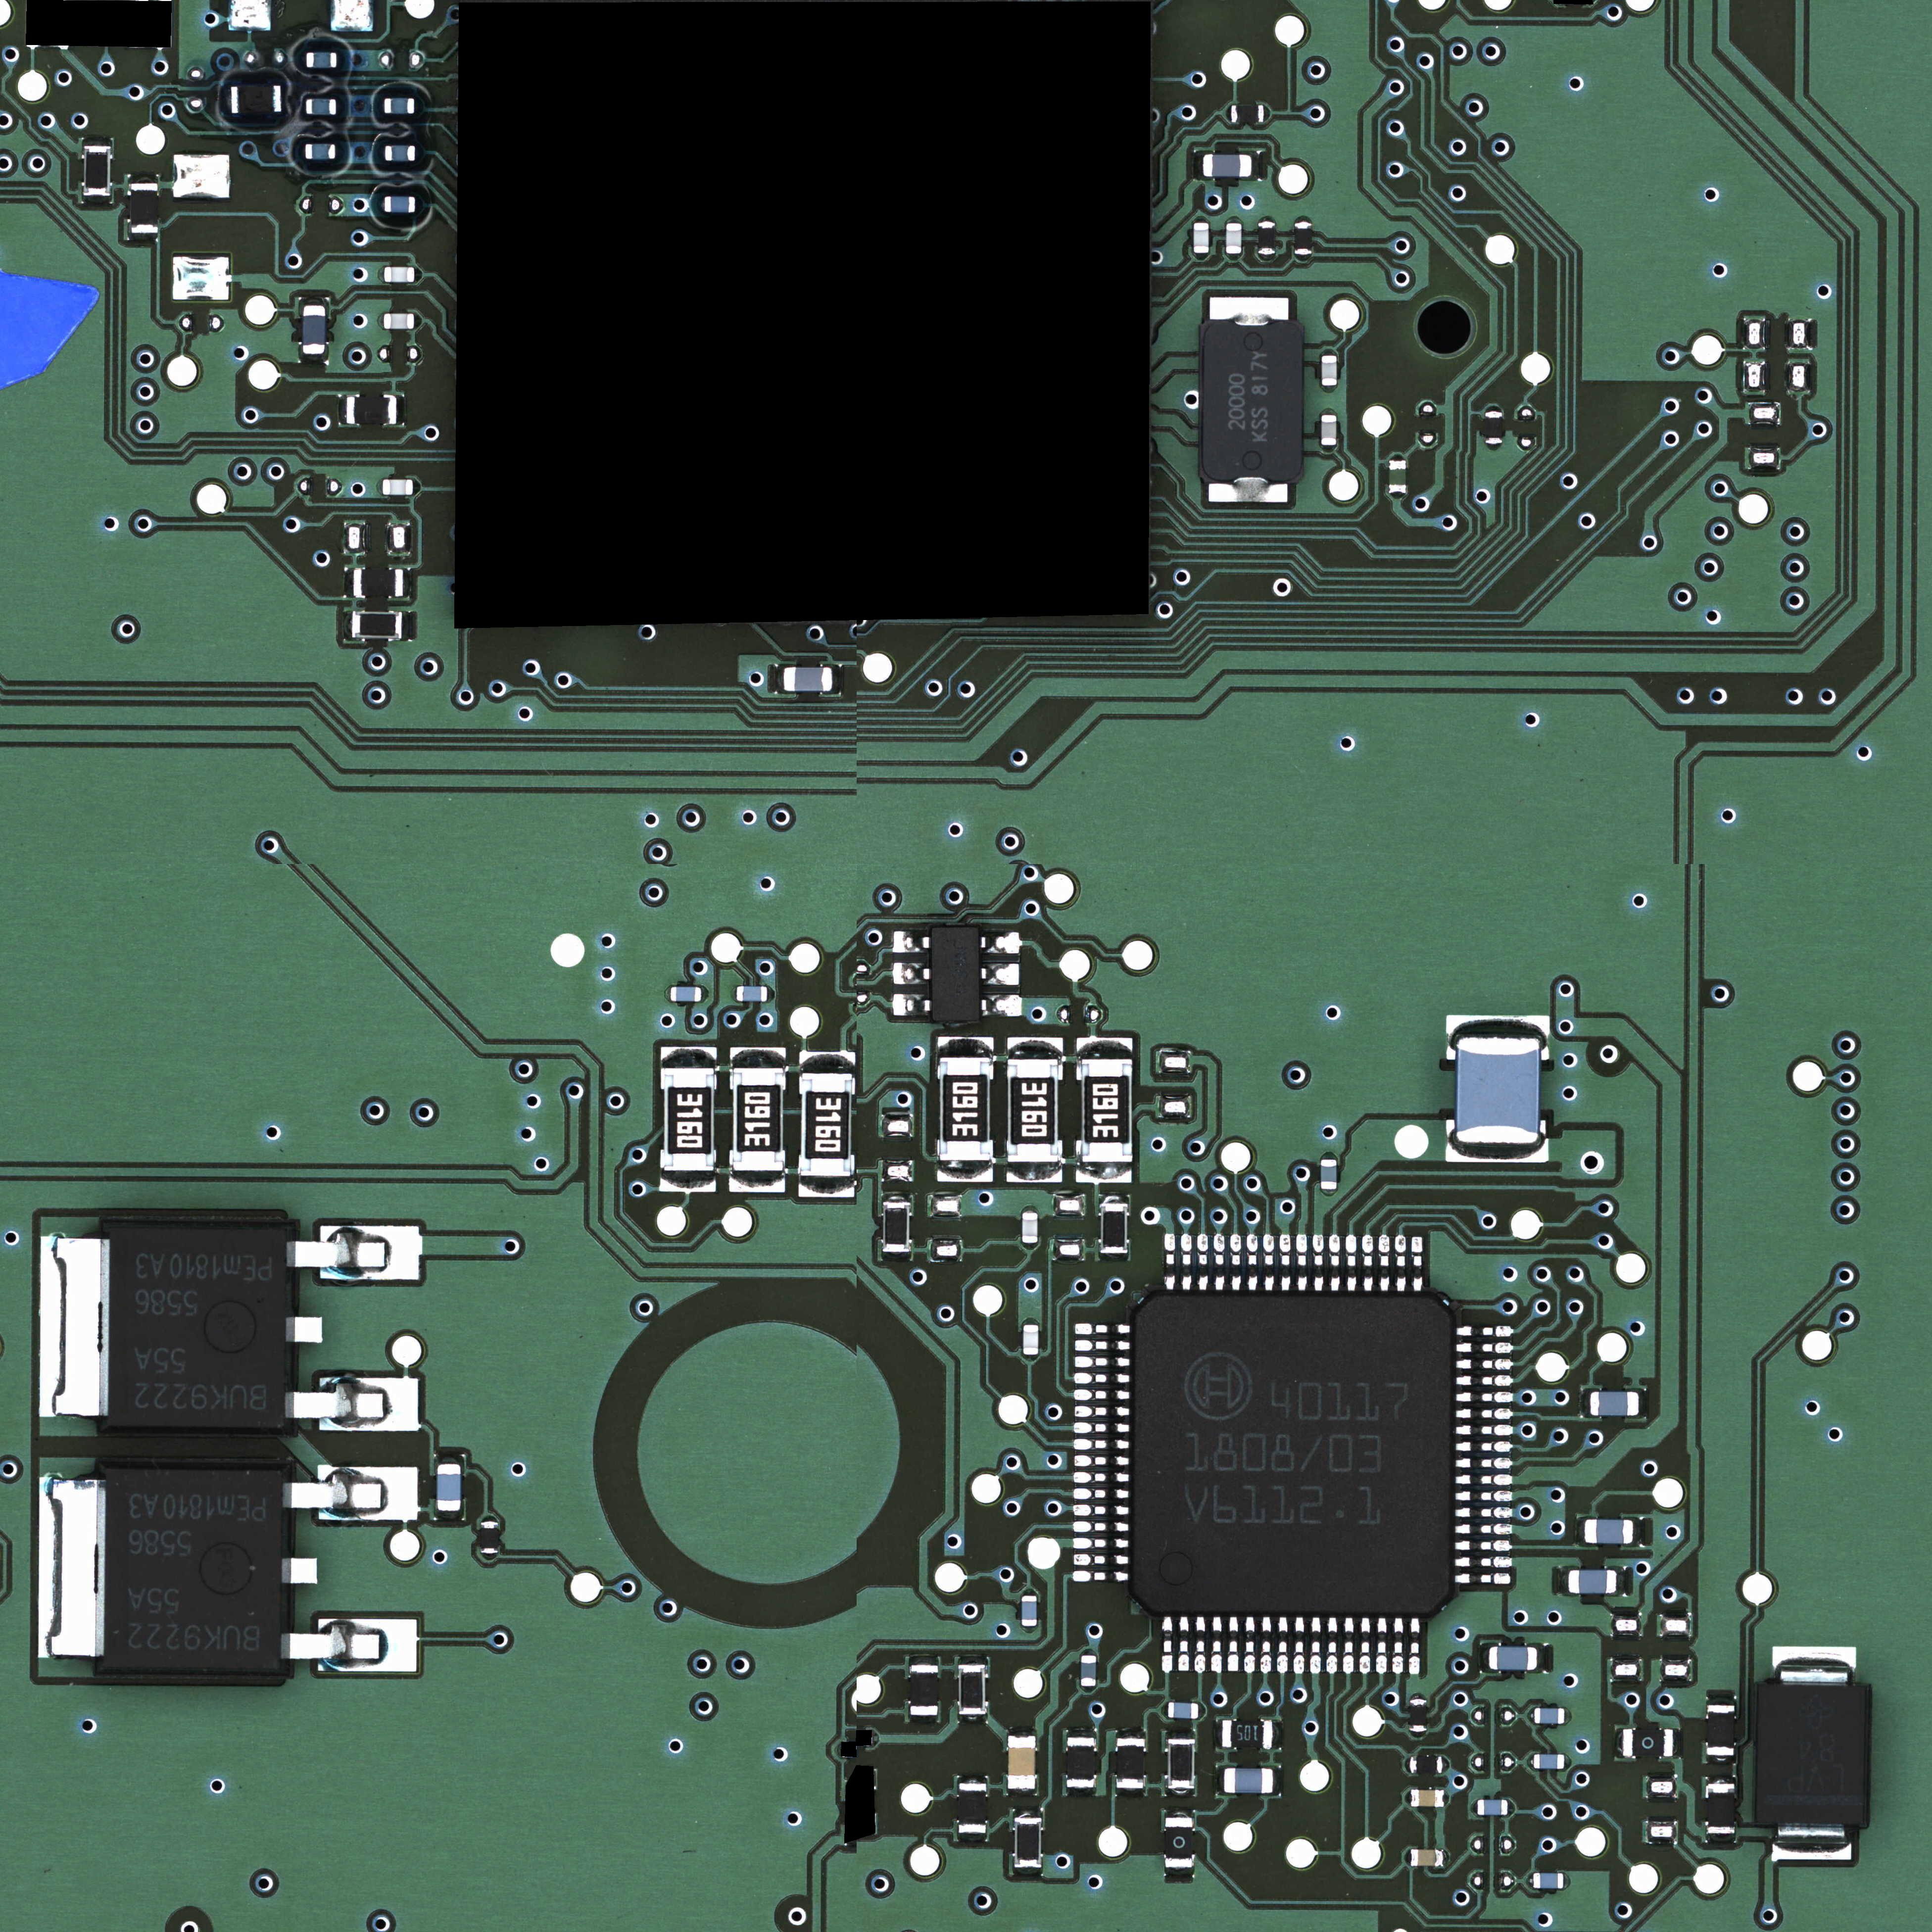Package: (1133, 1294, 1449, 1615), (112, 1221, 287, 1426), (105, 1468, 281, 1672), (1201, 323, 1302, 480), (1757, 1686, 1864, 1824), (1456, 1037, 1541, 1144), (801, 1073, 853, 1176), (661, 1068, 714, 1170), (731, 1068, 784, 1170), (1080, 1059, 1131, 1162), (1009, 1059, 1060, 1162), (939, 1058, 990, 1159), (931, 925, 981, 1020), (231, 84, 282, 114), (130, 183, 158, 233), (346, 395, 395, 425), (1008, 1737, 1035, 1788), (1165, 1817, 1193, 1868), (1116, 1738, 1145, 1787), (1222, 1720, 1272, 1748), (1067, 1737, 1095, 1787), (354, 569, 403, 597), (958, 1783, 986, 1832), (1707, 1705, 1735, 1754), (910, 1665, 938, 1714), (1707, 1784, 1735, 1833), (1622, 1729, 1672, 1756), (1014, 1817, 1041, 1867), (84, 145, 109, 195), (883, 1202, 909, 1252), (1168, 1739, 1194, 1788), (960, 1664, 985, 1714), (1101, 1204, 1127, 1253), (353, 612, 402, 638), (1584, 1519, 1633, 1544), (1224, 1768, 1272, 1792), (783, 667, 831, 691), (1489, 1645, 1537, 1670), (1568, 1569, 1616, 1593), (1590, 1392, 1638, 1415), (1203, 153, 1251, 177), (437, 1464, 461, 1511), (302, 305, 325, 354), (1409, 1698, 1427, 1732), (480, 1521, 498, 1553), (1410, 1788, 1443, 1807), (1485, 411, 1502, 444), (1388, 460, 1406, 492), (1294, 222, 1311, 255), (1231, 105, 1263, 123), (384, 195, 416, 213), (1258, 222, 1275, 254), (1410, 1849, 1443, 1866), (1409, 1756, 1442, 1772), (385, 145, 416, 161), (1167, 1702, 1198, 1718), (306, 98, 337, 115), (385, 97, 415, 114), (1080, 1655, 1096, 1686), (384, 312, 414, 329), (306, 143, 336, 159), (1321, 414, 1336, 445), (1534, 1707, 1564, 1723), (1226, 223, 1242, 253), (385, 266, 414, 283), (1534, 1872, 1563, 1888), (1321, 355, 1337, 386), (736, 986, 767, 1001), (1194, 223, 1209, 253), (1320, 1159, 1336, 1189), (1021, 1595, 1036, 1626), (1478, 1799, 1507, 1815), (306, 52, 337, 67), (383, 479, 412, 494), (671, 986, 701, 1001), (1534, 1754, 1564, 1768), (1022, 1212, 1037, 1243), (1023, 1324, 1037, 1354)
Solder: (41, 1236, 109, 1420), (39, 1477, 104, 1661), (283, 1465, 418, 1523), (288, 1223, 421, 1280), (283, 1616, 418, 1672), (288, 1375, 418, 1431), (1773, 1646, 1856, 1687), (1772, 1824, 1851, 1861), (1447, 1015, 1549, 1037), (1209, 296, 1288, 323), (1446, 1145, 1548, 1163), (1208, 481, 1287, 502), (799, 1051, 855, 1072), (729, 1171, 785, 1193), (798, 1177, 856, 1197), (937, 1161, 993, 1182), (659, 1172, 717, 1192), (660, 1047, 718, 1067), (937, 1037, 994, 1057), (1006, 1163, 1063, 1183), (1076, 1037, 1132, 1057), (1076, 1163, 1132, 1183), (730, 1047, 786, 1067), (1007, 1038, 1063, 1058), (288, 1314, 323, 1344), (980, 931, 1020, 954), (283, 1557, 317, 1583), (981, 995, 1022, 1016), (893, 962, 930, 984), (980, 964, 1019, 985), (1071, 1504, 1129, 1519), (893, 994, 931, 1015), (1454, 1472, 1514, 1486), (1072, 1453, 1130, 1467), (893, 932, 930, 953), (1071, 1553, 1129, 1567), (1071, 1520, 1129, 1533), (1073, 1388, 1130, 1401), (1072, 1470, 1129, 1484), (1454, 1506, 1513, 1519), (1411, 1235, 1424, 1294), (1455, 1358, 1514, 1371), (1345, 1233, 1357, 1292), (1454, 1440, 1513, 1452), (1278, 1233, 1291, 1292), (1453, 1556, 1511, 1569), (1071, 1487, 1129, 1499), (1455, 1489, 1513, 1502), (1073, 1371, 1131, 1384), (1073, 1421, 1130, 1434), (1455, 1424, 1514, 1436), (1455, 1374, 1514, 1387), (1455, 1324, 1514, 1337), (1229, 1233, 1242, 1292), (1295, 1233, 1307, 1291), (1072, 1537, 1129, 1549), (1454, 1539, 1511, 1551), (1455, 1456, 1513, 1469), (1072, 1438, 1130, 1450), (1074, 1339, 1131, 1351), (1074, 1323, 1131, 1335), (1293, 1614, 1304, 1674), (1073, 1405, 1130, 1417), (1074, 1355, 1131, 1368), (1180, 1233, 1192, 1292), (1213, 1233, 1225, 1292), (1455, 1407, 1514, 1419), (1262, 1233, 1274, 1292), (1362, 1233, 1374, 1292), (1163, 1233, 1175, 1292), (1455, 1391, 1514, 1403), (1395, 1234, 1407, 1292), (1246, 1233, 1258, 1291), (1455, 1341, 1513, 1353), (1328, 1234, 1340, 1292), (1161, 1616, 1173, 1674), (1309, 1616, 1321, 1674), (1312, 1234, 1324, 1291), (1454, 1523, 1512, 1535), (1276, 1617, 1288, 1674), (1197, 1233, 1208, 1292), (1071, 1570, 1129, 1582), (1379, 1234, 1390, 1292), (1259, 1616, 1271, 1674), (1453, 1573, 1511, 1585), (1392, 1617, 1403, 1675), (1376, 1617, 1387, 1674), (1343, 1617, 1354, 1674), (1326, 1617, 1337, 1674), (1211, 1616, 1222, 1674), (1228, 1616, 1239, 1674), (1244, 1616, 1255, 1674), (1409, 1617, 1420, 1675), (1195, 1616, 1206, 1674), (1179, 1616, 1189, 1674), (1360, 1617, 1371, 1674), (217, 84, 229, 114), (1617, 1566, 1628, 1596), (772, 663, 782, 694), (1113, 1788, 1146, 1797), (908, 1655, 940, 1664), (957, 1654, 989, 1664), (1706, 1694, 1736, 1704), (1557, 1566, 1568, 1595), (1063, 1787, 1097, 1796), (1538, 1644, 1548, 1672), (1479, 1642, 1488, 1672), (1163, 1788, 1197, 1797), (956, 1833, 988, 1841), (396, 394, 405, 426), (342, 611, 352, 639), (1704, 1755, 1737, 1764), (1214, 1764, 1223, 1795), (1101, 1193, 1130, 1203), (344, 567, 353, 598), (1633, 1517, 1642, 1546), (1165, 1730, 1196, 1739), (1164, 1808, 1195, 1817), (435, 1454, 464, 1463), (338, 393, 346, 426), (909, 1715, 940, 1724), (1673, 1728, 1682, 1757), (82, 196, 110, 205), (832, 663, 841, 693), (433, 1511, 463, 1520), (882, 1193, 912, 1202), (1099, 1253, 1129, 1261), (958, 1715, 988, 1723), (403, 611, 412, 639), (1252, 151, 1261, 178), (82, 136, 113, 144), (880, 1253, 912, 1260), (1704, 1775, 1736, 1783), (1273, 1765, 1281, 1796), (1273, 1718, 1281, 1749), (1014, 1868, 1042, 1877), (1164, 1869, 1195, 1877), (1193, 152, 1203, 179), (1614, 1728, 1622, 1758), (1066, 1729, 1097, 1737), (1581, 1388, 1590, 1417), (404, 569, 412, 597), (1639, 1389, 1647, 1417), (1007, 1727, 1036, 1736), (299, 354, 328, 363), (1705, 1834, 1736, 1841), (300, 295, 328, 304), (1214, 1717, 1221, 1749), (1006, 1788, 1038, 1796), (958, 1774, 986, 1782), (1115, 1730, 1147, 1737), (1576, 1516, 1584, 1545), (129, 233, 159, 241), (128, 174, 158, 182), (1014, 1809, 1043, 1817), (282, 85, 290, 114), (480, 1554, 499, 1563), (375, 194, 383, 214), (417, 194, 426, 214), (1263, 104, 1271, 124), (378, 143, 385, 163), (872, 1729, 879, 1748), (1192, 253, 1209, 261), (338, 97, 344, 116), (298, 97, 305, 116), (298, 142, 305, 161), (1294, 214, 1312, 221), (377, 97, 384, 115), (415, 97, 423, 115), (1563, 1873, 1571, 1891), (1508, 1799, 1515, 1817), (336, 142, 343, 161), (416, 143, 423, 162), (1485, 404, 1502, 411), (481, 1513, 498, 1521), (337, 51, 344, 68), (1389, 492, 1406, 499), (1403, 1848, 1410, 1866), (1225, 254, 1243, 261), (1443, 1849, 1450, 1867), (1565, 1707, 1572, 1725), (1565, 1753, 1572, 1771), (298, 52, 305, 68), (1322, 386, 1338, 393), (1258, 214, 1275, 221), (1485, 444, 1502, 451), (1403, 1788, 1409, 1806), (1444, 1789, 1450, 1808), (1194, 215, 1210, 222), (1258, 255, 1276, 261), (1294, 255, 1312, 262), (1021, 1588, 1036, 1595), (1021, 1627, 1037, 1634), (1226, 215, 1242, 222), (1321, 348, 1337, 355), (377, 312, 384, 329), (1320, 445, 1337, 452), (1160, 1701, 1167, 1718), (1320, 1190, 1337, 1196), (1441, 1755, 1448, 1772), (1470, 1799, 1477, 1815), (1409, 1733, 1427, 1739), (729, 985, 736, 1001), (1022, 1318, 1039, 1324), (1320, 1153, 1337, 1159), (415, 267, 422, 282), (1022, 1243, 1038, 1249), (768, 986, 774, 1002), (1022, 1206, 1038, 1212), (1022, 1355, 1038, 1362), (1199, 1702, 1205, 1719), (665, 985, 671, 1002), (1409, 1693, 1427, 1698), (1388, 454, 1405, 459), (413, 479, 419, 494), (1527, 1872, 1533, 1888), (835, 1742, 841, 1758), (1403, 1758, 1409, 1773), (376, 480, 382, 495), (701, 986, 707, 1002), (1225, 106, 1231, 122), (378, 267, 384, 282), (1080, 1649, 1096, 1654), (414, 313, 420, 328), (1321, 408, 1336, 413), (1528, 1707, 1534, 1722), (1528, 1754, 1533, 1768)
